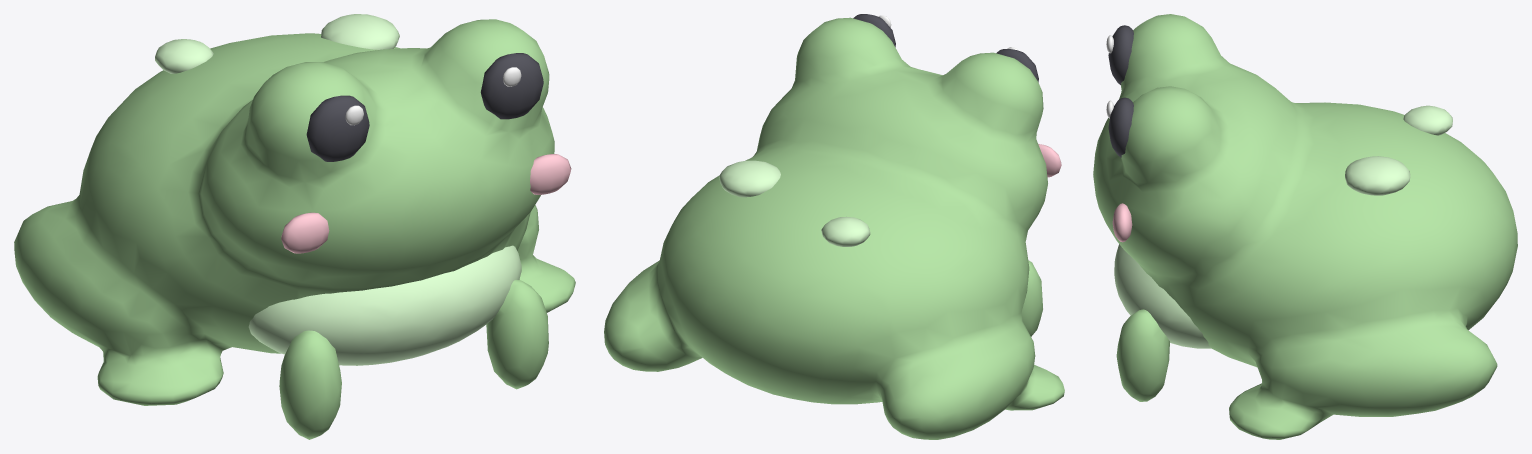
File: Frog.fbx
The picture shows the model from 3 angles, left to right: view 1: azimuth 30°, elevation 25°; view 2: azimuth 150°, elevation 25°; view 3: azimuth 270°, elevation 25°; orthographic projection. The views are drawn at different scales.
Parts seen in each view (by area): view 1: Body, Accent, Eyes, Detail, Shine; view 2: Body, Accent, Eyes, Detail; view 3: Body, Accent, Eyes, Detail.
Boxes of the visible parts, bbox=[...] form: Body: bbox=[14, 19, 575, 439]; Accent: bbox=[155, 14, 521, 365]; Eyes: bbox=[306, 53, 543, 161]; Detail: bbox=[281, 154, 571, 253]; Shine: bbox=[345, 67, 521, 125]; Body: bbox=[604, 17, 1064, 439]; Accent: bbox=[719, 160, 870, 246]; Eyes: bbox=[853, 14, 1038, 82]; Detail: bbox=[1038, 144, 1061, 177]; Body: bbox=[1093, 14, 1517, 439]; Accent: bbox=[1114, 105, 1452, 348]; Eyes: bbox=[1108, 25, 1133, 157]; Detail: bbox=[1112, 203, 1132, 242].
Size of the model in its own units: 2.24 by 1.63 by 2.09.
